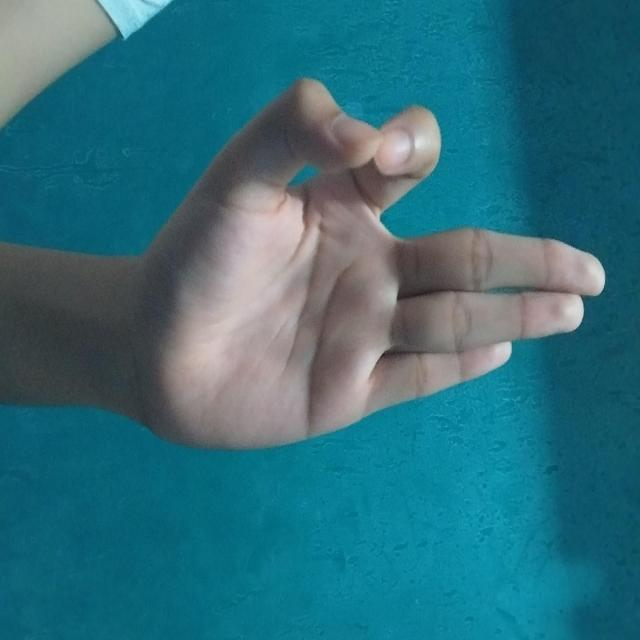F: (70, 33, 455, 490)
